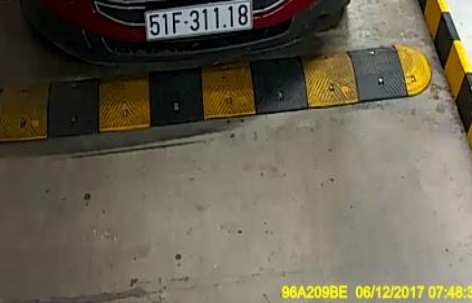plate: (141, 3, 256, 39)
